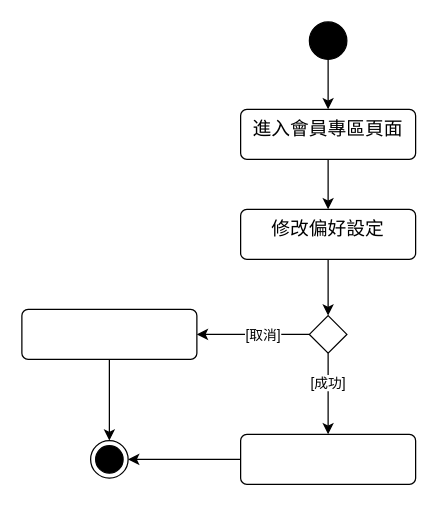
This 438x506 diagram has some shape labels left out. Here are the shapes that lost their labels. From the top down, the box of each, then its label:
(21, 308, 197, 359): 修改取消
(239, 433, 416, 484): 修改成功
